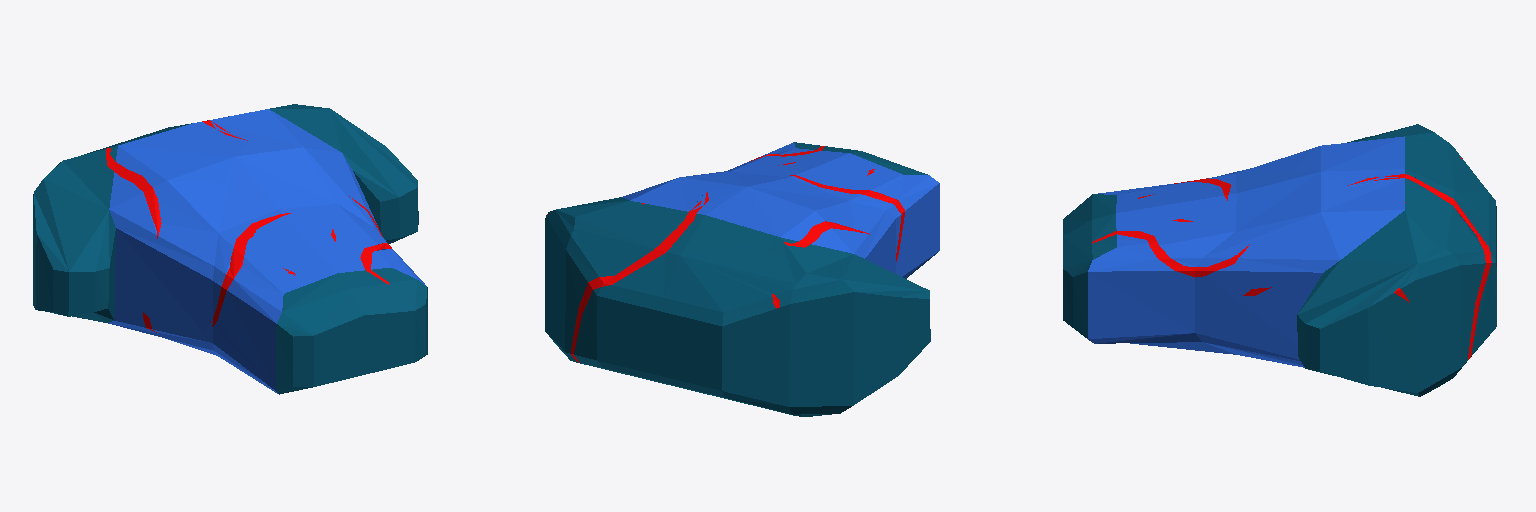
The model's file is FireArmour.obj.
3 renders of one model, left to right at view 1: azimuth 30°, elevation 25°; view 2: azimuth 150°, elevation 25°; view 3: azimuth 270°, elevation 25°, orthographic.
Parts seen in each view (by area): view 1: FireArmour; view 2: FireArmour; view 3: FireArmour.
Part boxes in pixels (left/top/right/bottom): FireArmour: left=33, top=104, right=427, bottom=394; FireArmour: left=545, top=142, right=939, bottom=416; FireArmour: left=1063, top=124, right=1496, bottom=396.
Size of the model in its own units: 1.01 by 0.4581 by 1.04.